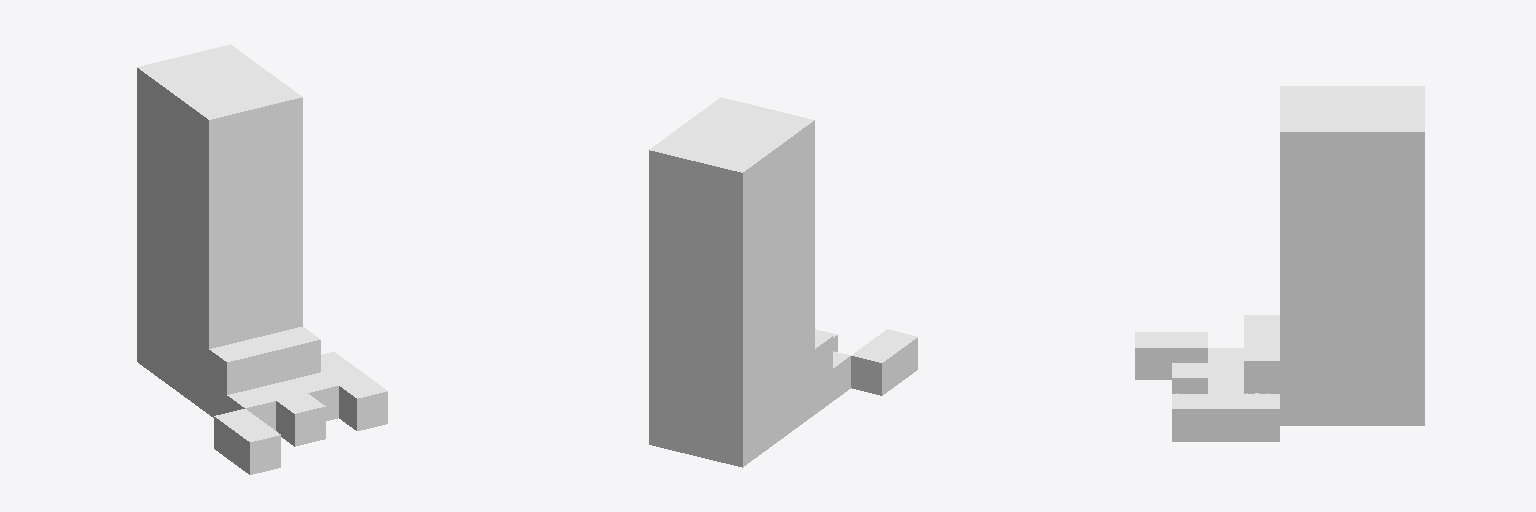
Rendered from Pushkar-4.obj.
The picture shows the model from 3 angles: view 1: azimuth 30°, elevation 25°; view 2: azimuth 150°, elevation 25°; view 3: azimuth 270°, elevation 25°; orthographic projection.
Parts seen in each view (by area): view 1: object 1; view 2: object 1; view 3: object 1.
Part boxes in pixels (bbox=[...]): object 1: bbox=[137, 44, 387, 474]; object 1: bbox=[649, 97, 917, 467]; object 1: bbox=[1135, 86, 1424, 441].
Size of the model in its own units: 0.5 by 0.9 by 0.8.